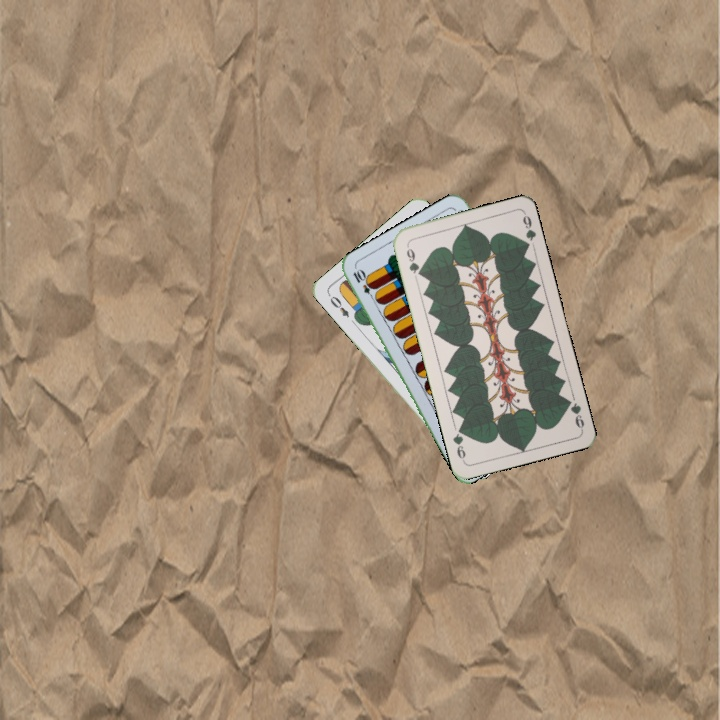E10: (349, 265, 378, 303)
EO: (326, 292, 352, 320)
G9: (561, 394, 587, 432), (402, 241, 424, 279)
